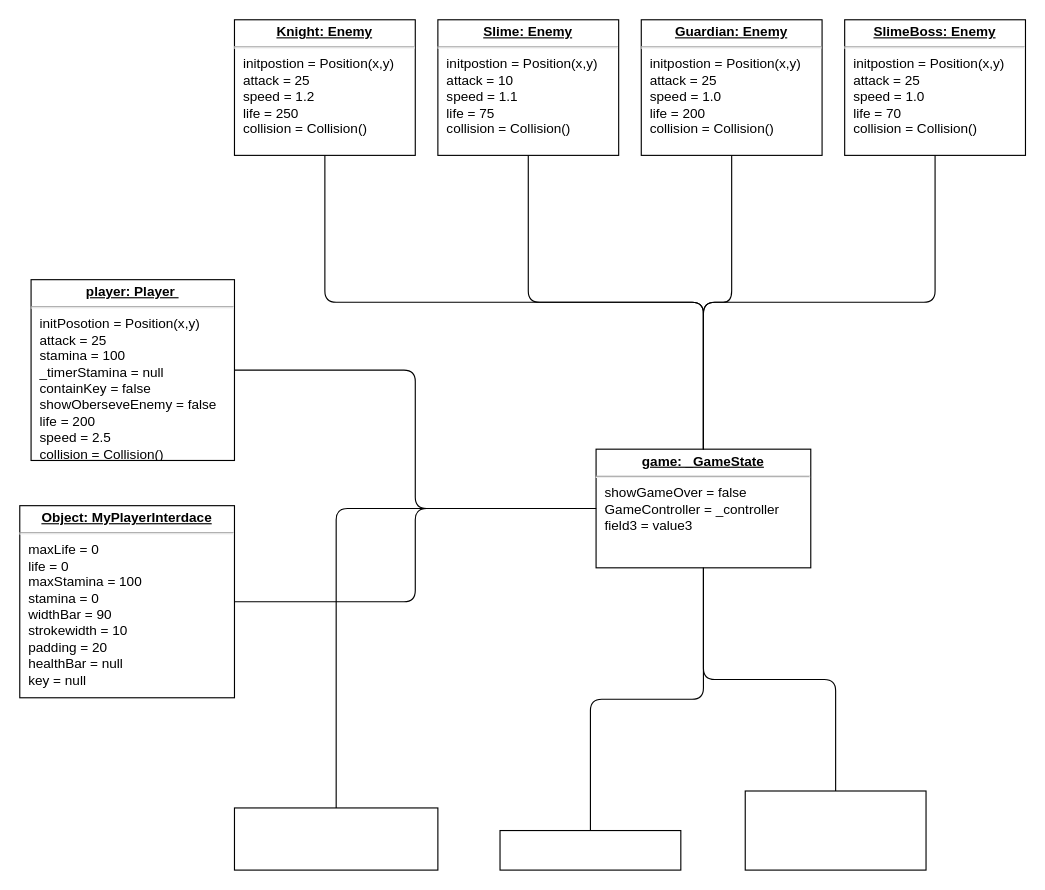
This 1045x890 diagram has some shape labels left out. The box of each missing label's shape, as (x1, y1, x2, y2) in pixels:
dialogs: Dialogs: (499, 829, 681, 870)
porta: Door open = false showDialog = false: (744, 790, 926, 870)
sound: Sound AudioPlay = audioBackground: (233, 807, 438, 870)
